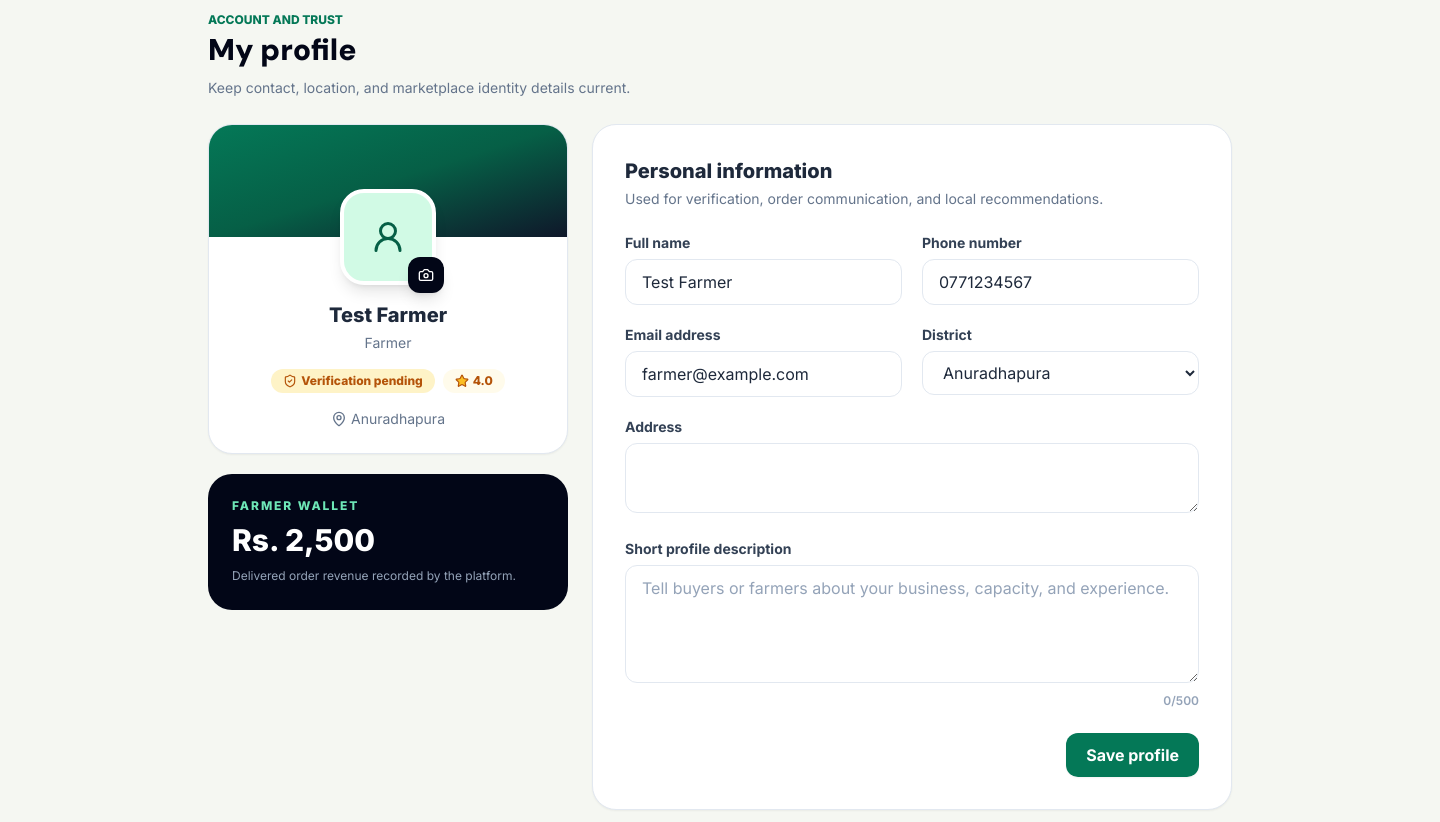
Scenario: ProfilePage › shows field validation errors before updating
Replace the text in the field labelled "Full name" with "A": (764,282) [625,259,902,305]
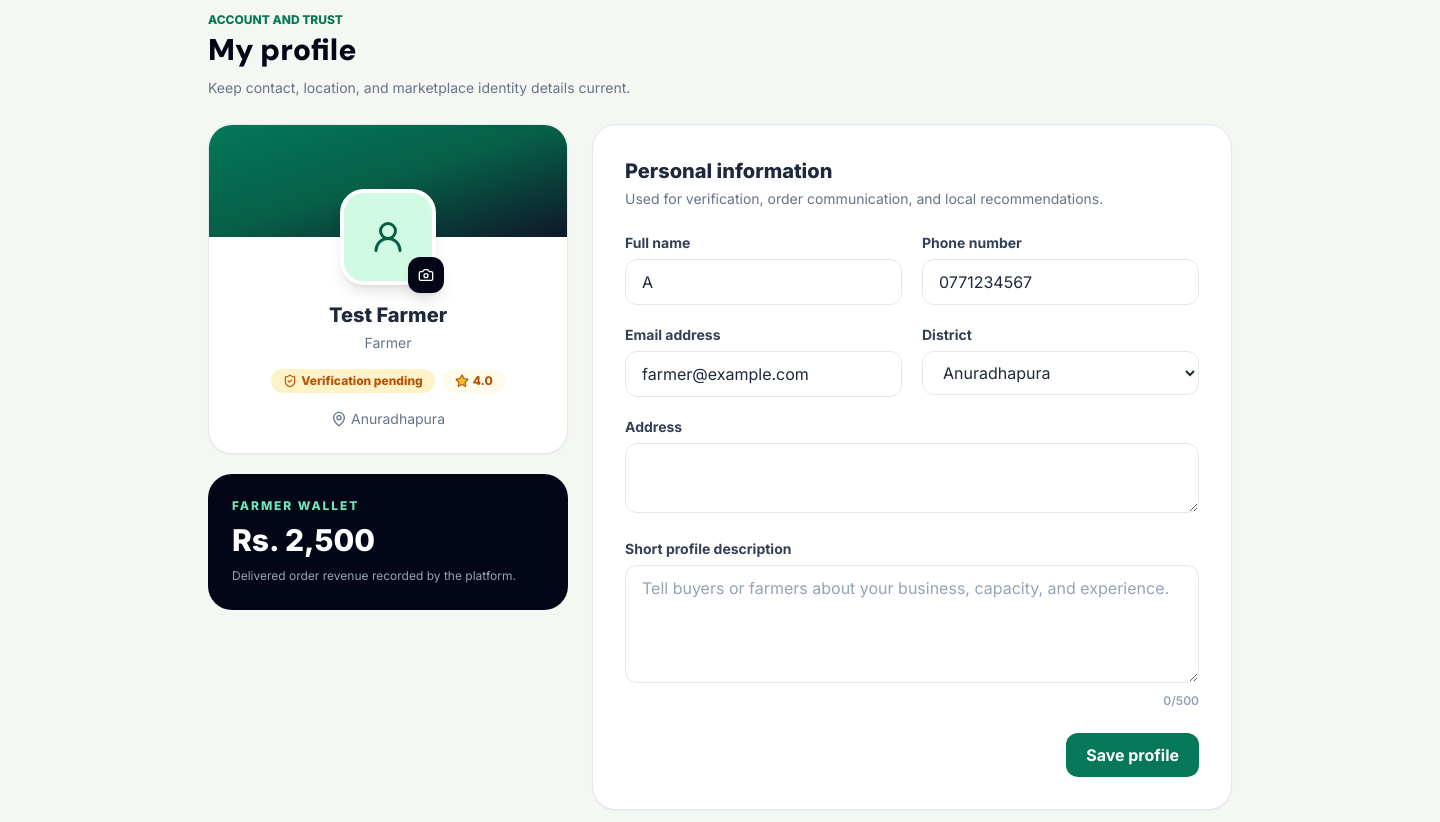
In the field labelled "Phone number": (1060,282) [922,259,1199,305], type "phone"
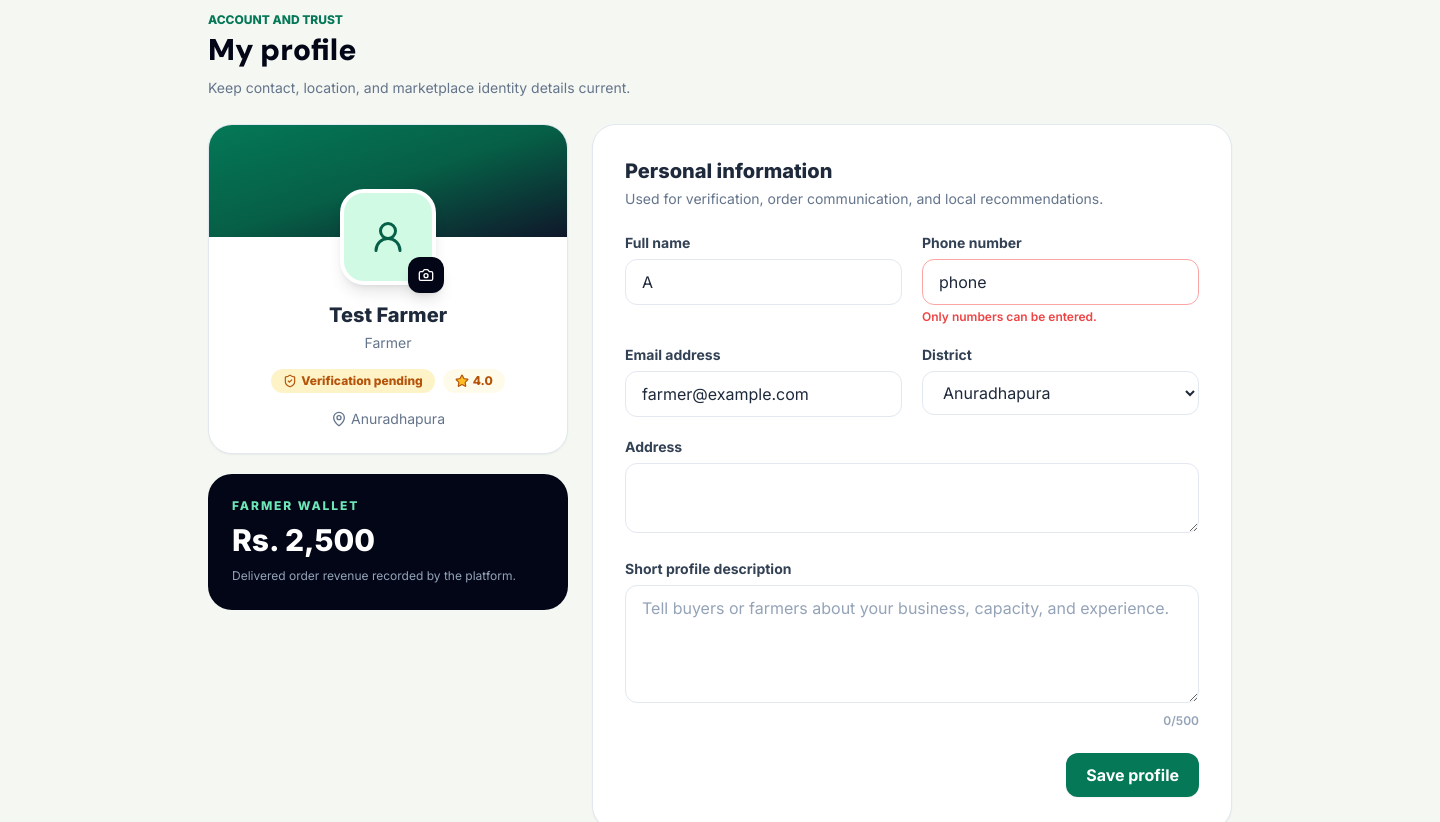
Replace the text in the field labelled "Email address" with "bad-email": (764,394) [625,371,902,417]
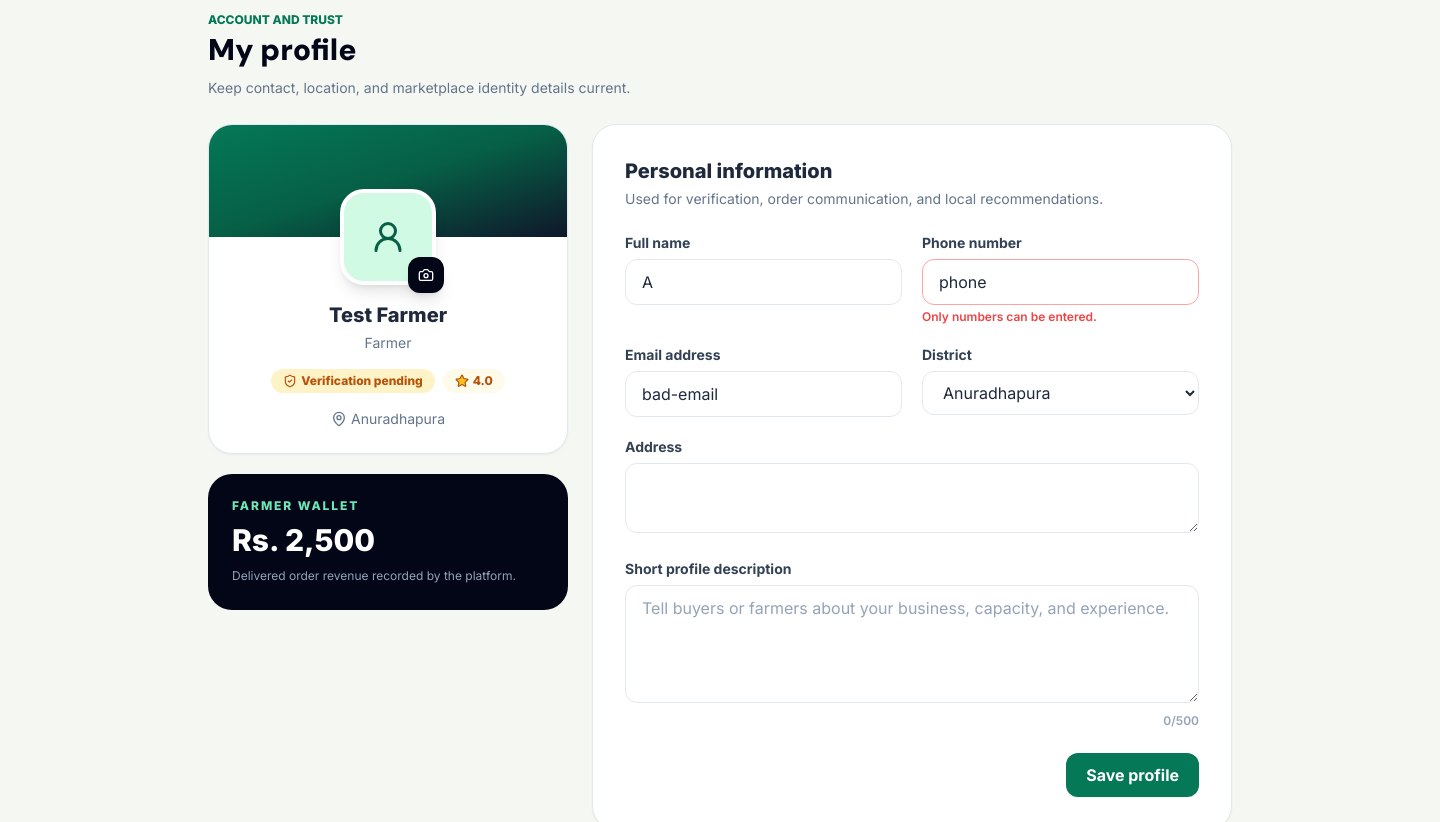
Select "Select district" in the dropdown labelled "District": (1060,393) [922,371,1199,415]
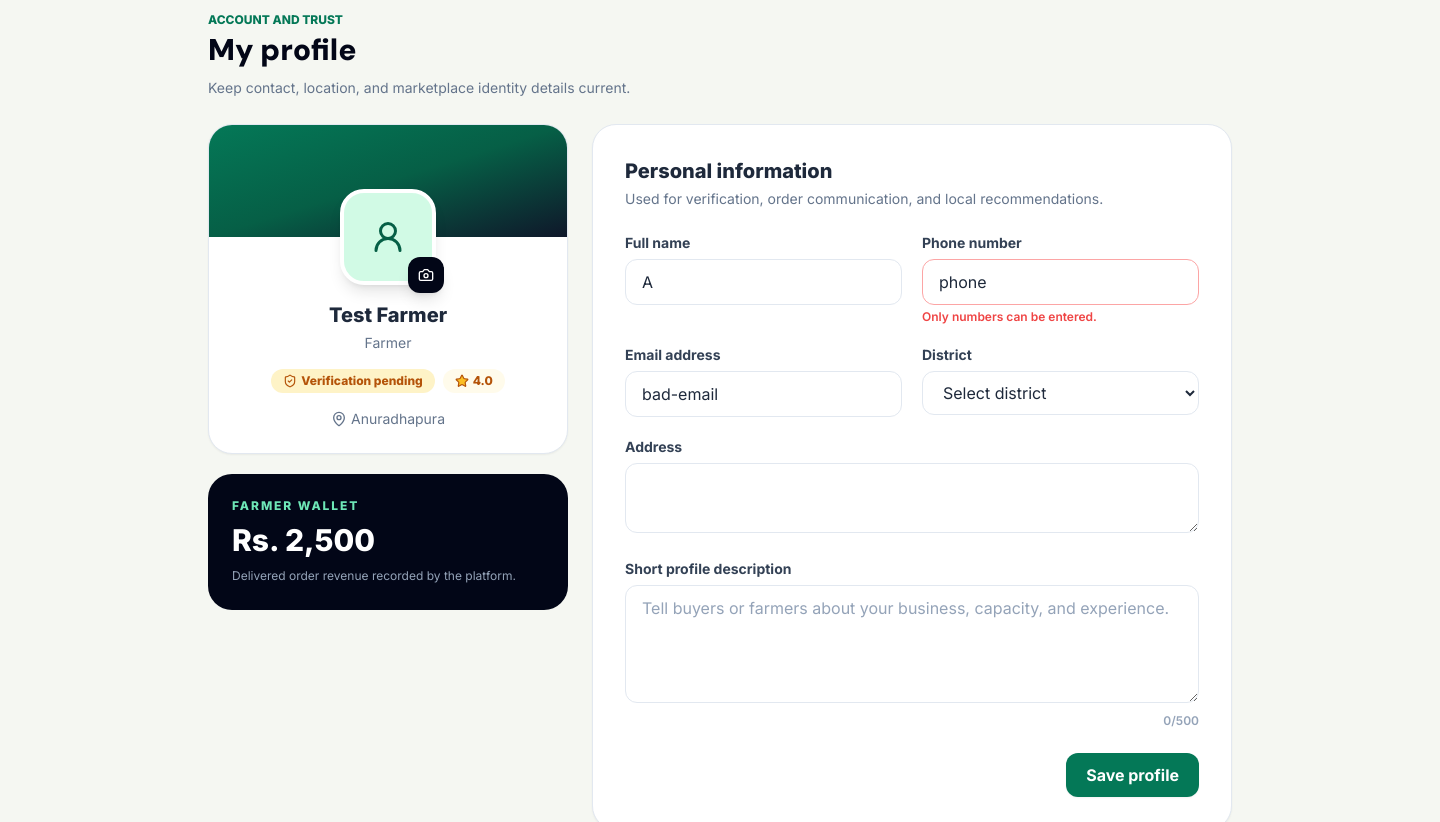
Click the button "Save profile": (1133,775) [1066,753,1199,797]
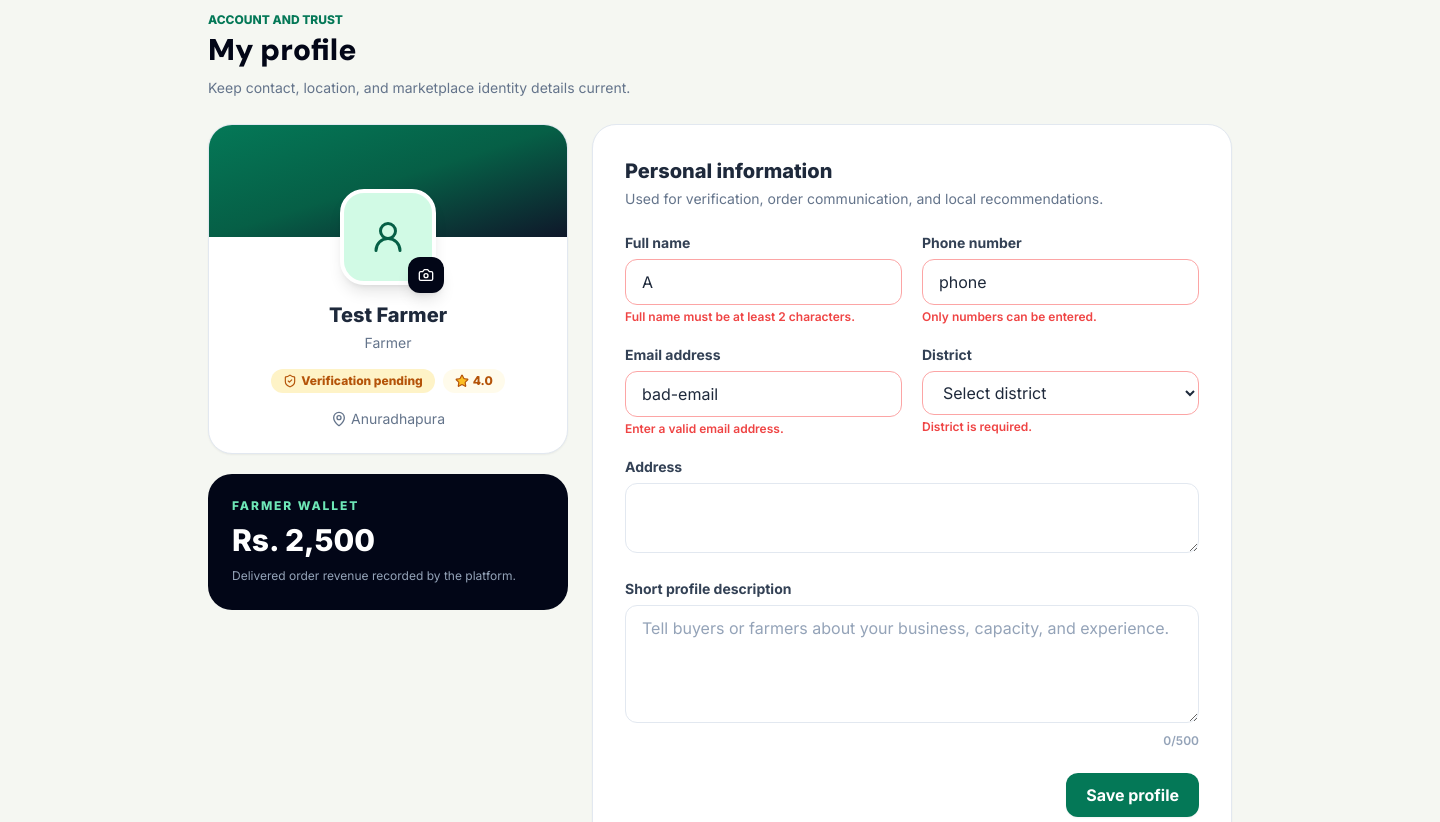
Result: the text "Only numbers can be entered." is shown at [922,309,1097,324]
Result: the text "Full name must be at least 2 characters." is shown at [625,309,855,324]
Result: the text "Enter a valid email address." is shown at [625,421,784,436]
